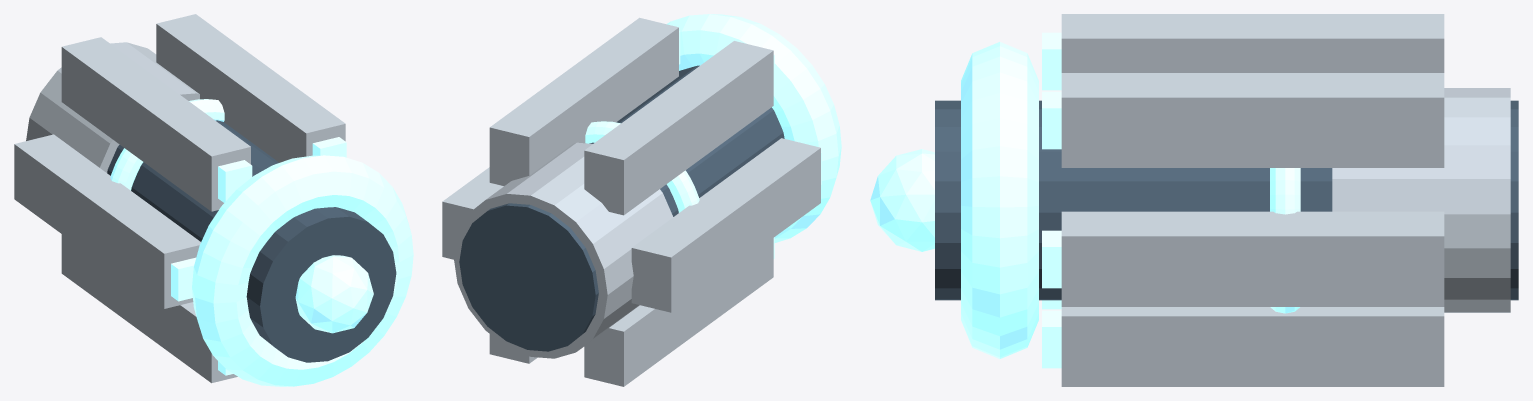
The model's file is raio-celeste.glb.
3 renders of one model, left to right at view 1: azimuth 30°, elevation 25°; view 2: azimuth 150°, elevation 25°; view 3: azimuth 270°, elevation 25°, orthographic. The views are drawn at different scales.
Visible parts, largest first — view 1: Emitter3, Barrel0, ArmorFin9, ArmorFin11, ArmorFin7, ArmorFin13, Housing1, Muzzle4, Capacitor17, Lumen10, Lumen12, Lumen8; view 2: Barrel0, ArmorFin11, ArmorFin9, ArmorFin7, Housing1, Emitter3, ArmorFin13, ArmorFin5, Capacitor17, ArmorFin15; view 3: ArmorFin5, ArmorFin7, ArmorFin15, Emitter3, ArmorFin9, Barrel0, Housing1, Muzzle4, Capacitor17, Lumen6, Lumen8, Lumen10 (+1 smaller).
Part boxes in pixels (x1,y1,x2,y2): Emitter3: [192, 155, 413, 386]; Barrel0: [107, 120, 396, 362]; ArmorFin9: [61, 37, 250, 211]; ArmorFin11: [14, 134, 200, 308]; ArmorFin7: [156, 14, 345, 162]; ArmorFin13: [61, 234, 237, 383]; Housing1: [26, 42, 199, 172]; Muzzle4: [295, 255, 373, 333]; Capacitor17: [110, 99, 224, 190]; Lumen10: [218, 160, 252, 202]; Lumen12: [171, 257, 195, 301]; Lumen8: [312, 137, 346, 157]; Barrel0: [459, 65, 784, 351]; ArmorFin11: [631, 138, 820, 312]; ArmorFin9: [584, 41, 773, 215]; ArmorFin7: [489, 17, 678, 185]; Housing1: [453, 142, 672, 358]; Emitter3: [666, 14, 841, 242]; ArmorFin13: [584, 238, 773, 386]; ArmorFin5: [442, 167, 503, 259]; Capacitor17: [585, 121, 699, 212]; ArmorFin15: [489, 334, 537, 363]; ArmorFin5: [1061, 211, 1444, 306]; ArmorFin7: [1061, 73, 1444, 167]; ArmorFin15: [1061, 307, 1444, 386]; Emitter3: [961, 42, 1038, 358]; ArmorFin9: [1061, 14, 1444, 72]; Barrel0: [935, 100, 1518, 300]; Housing1: [1332, 88, 1510, 312]; Muzzle4: [870, 149, 934, 251]; Capacitor17: [1270, 168, 1300, 313]; Lumen6: [1042, 230, 1061, 288]; Lumen8: [1042, 91, 1061, 149]; Lumen10: [1042, 32, 1061, 90].
Bounding box in the file's own units: 1.04 × 0.9848 × 2.
